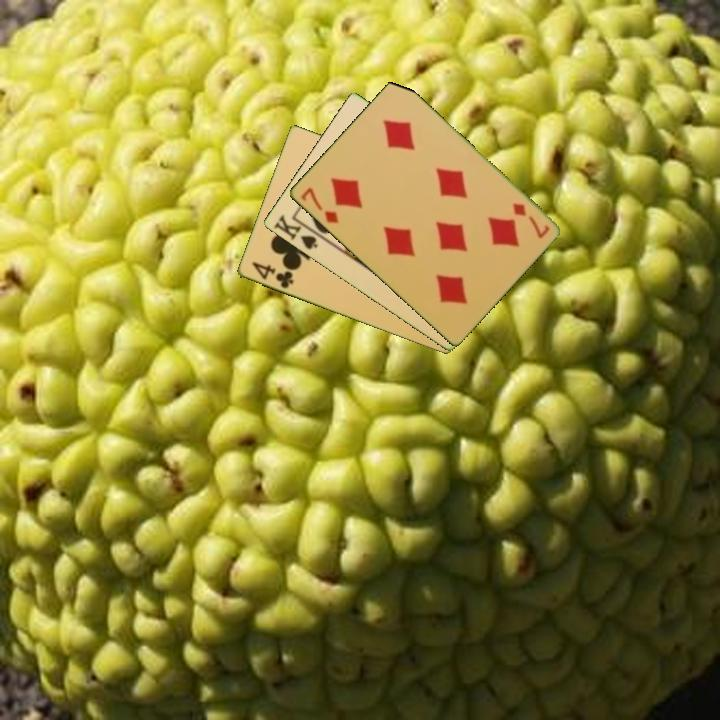4c: (248, 258, 296, 292)
7d: (508, 199, 552, 242), (297, 184, 341, 226)
Ks: (270, 211, 326, 253)
